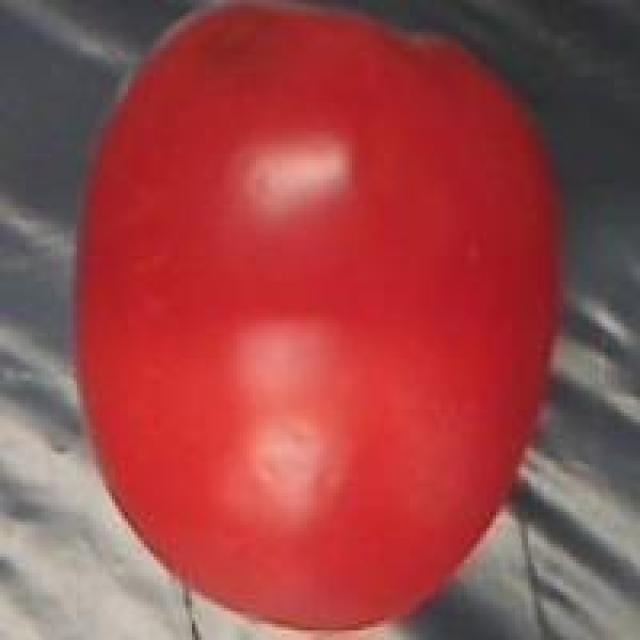ripe tomato: (58, 3, 579, 640)
